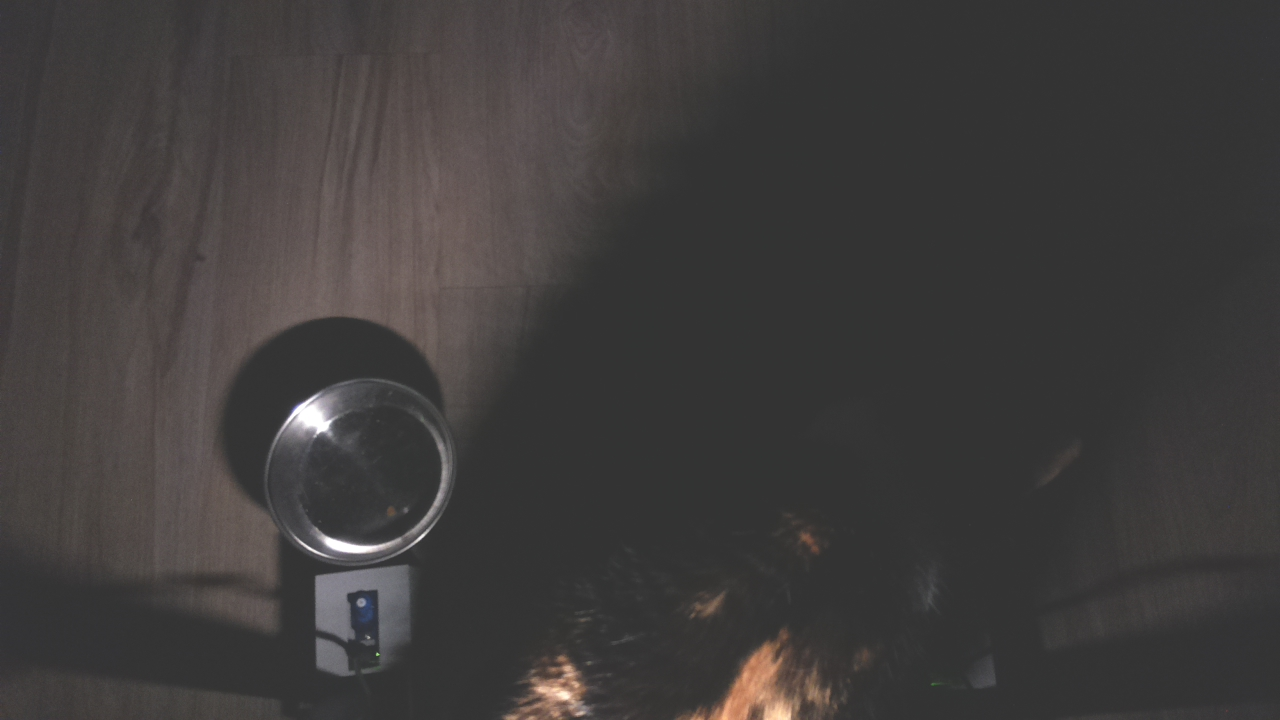open_bowl: (258, 369, 461, 576)
